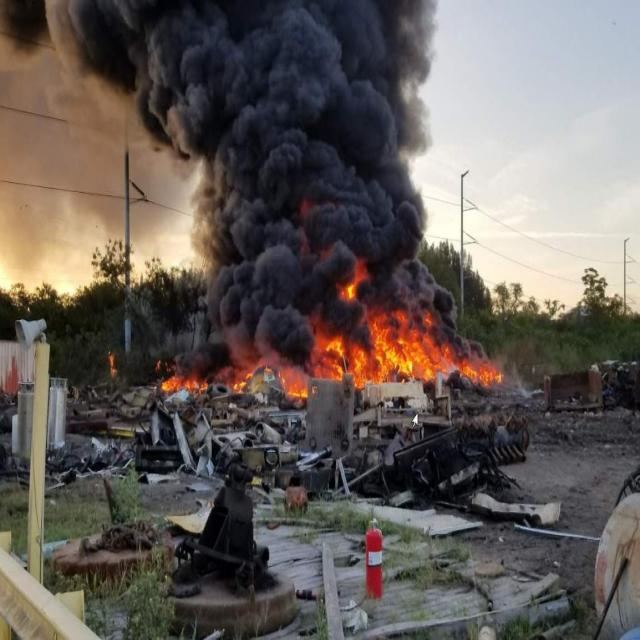fire: (235, 241, 520, 387)
